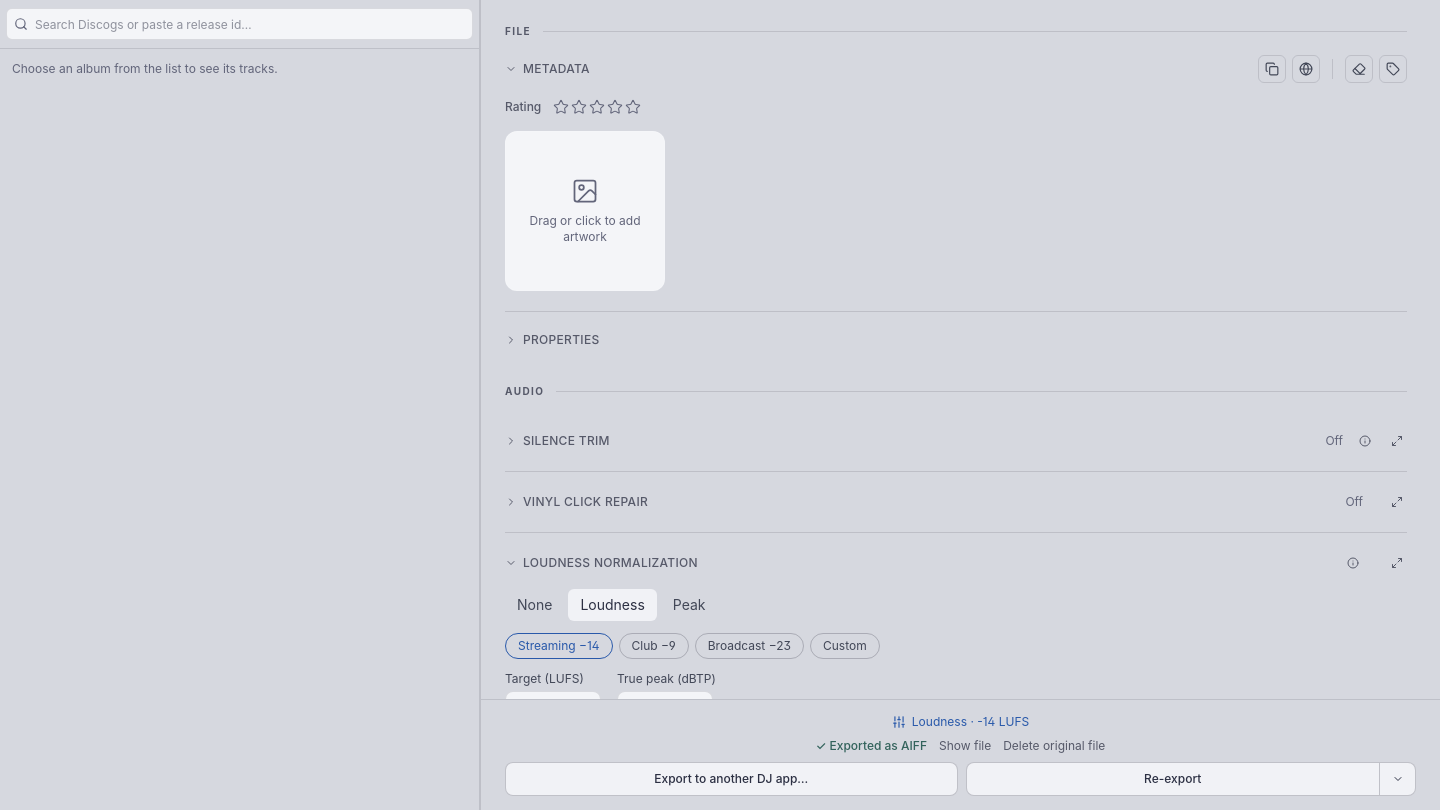
Test: Editor export control › returns to the convert button when the normalization dial changes after export
This screenshot has width=1440, height=810.
Expected: the text "✓ Exported as AIFF" is shown, top-left (816, 738), bottom-right (927, 754)
Click the button with test id "normalize-preset-club" at (654, 646), box top-left (618, 633), bottom-right (689, 659)
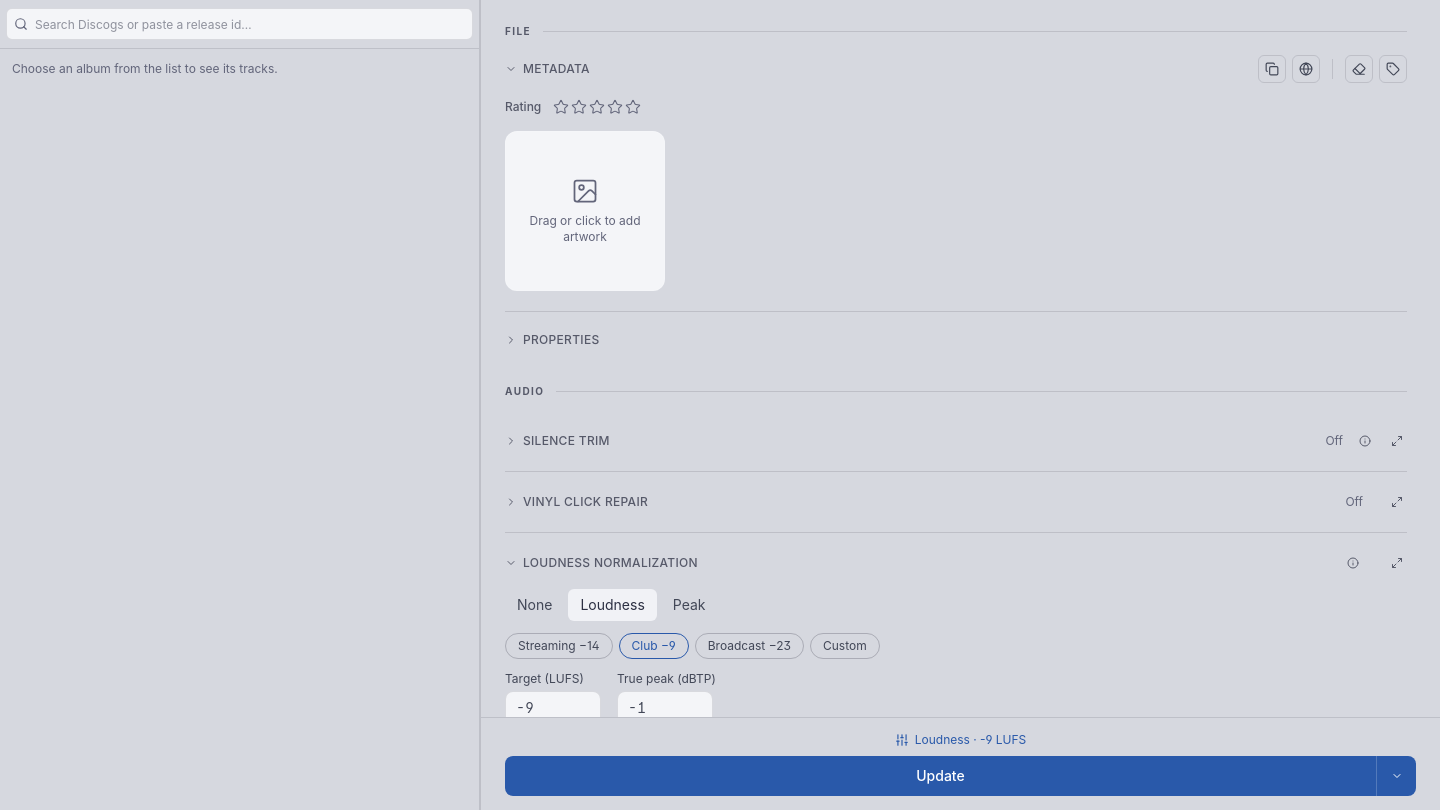
Expected: the button with test id "process-btn" is shown, top-left (505, 756), bottom-right (1376, 796)
Now the text with test id "export-success" is gone
